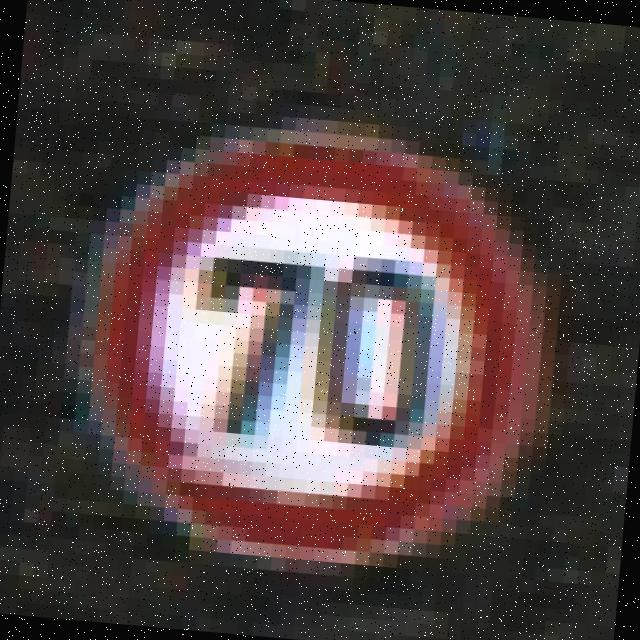Ograniczenie predkosci do 70: (76, 115, 556, 577)
